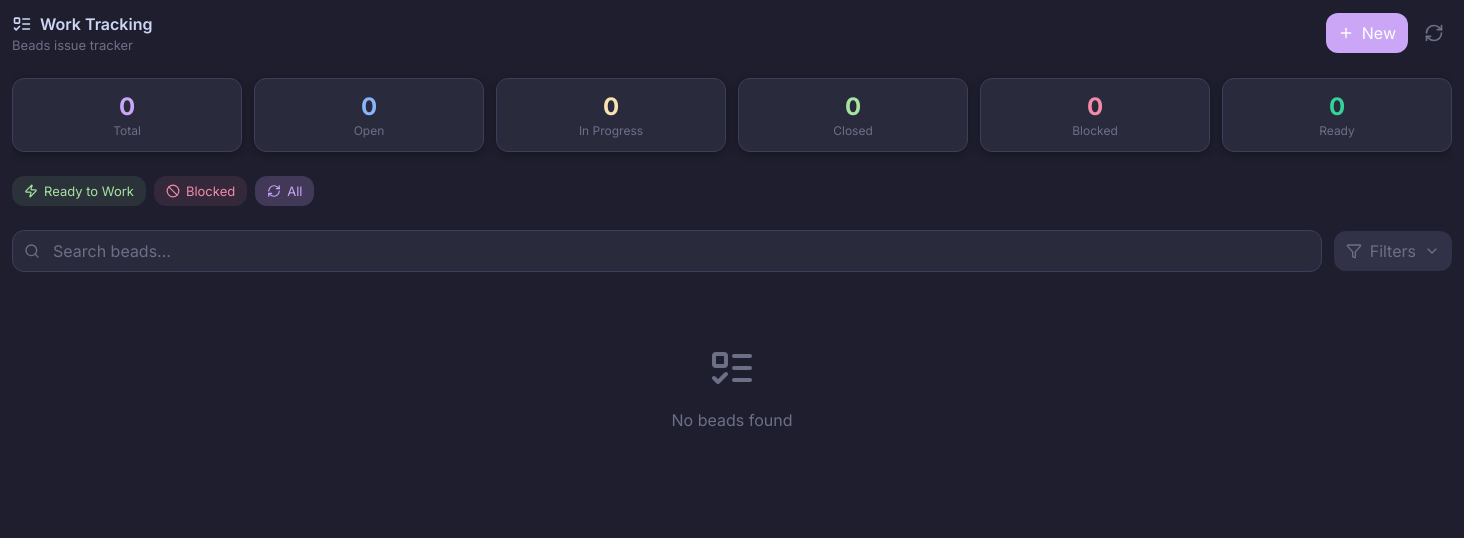
Test: BeadsPanel › toggles filter panel
The width and height of the screenshot is (1464, 538).
Expected: the text "Status" is not shown
// Click filters button
Click the button "Filters".
click(1393, 251)  # box [1334,231,1452,271]
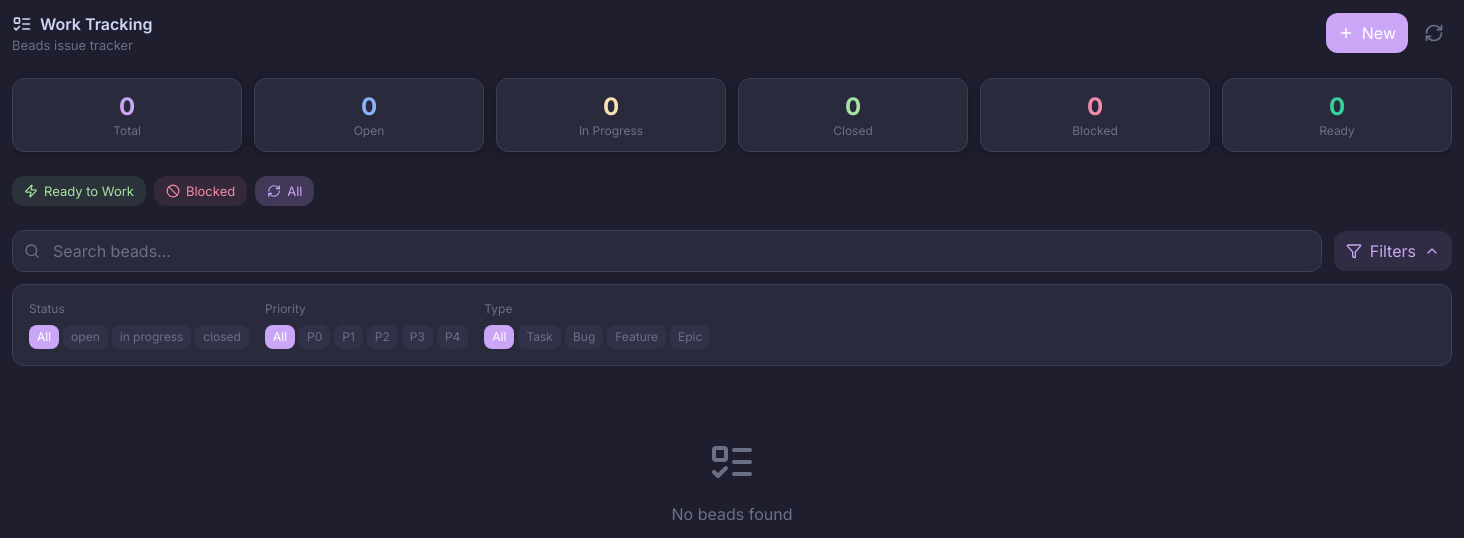
Result: the text "Status" is shown at [29,301,65,316]
Result: the text "Priority" is shown at [265,301,306,316]
Result: the text "Type" is shown at [484,301,512,316]
